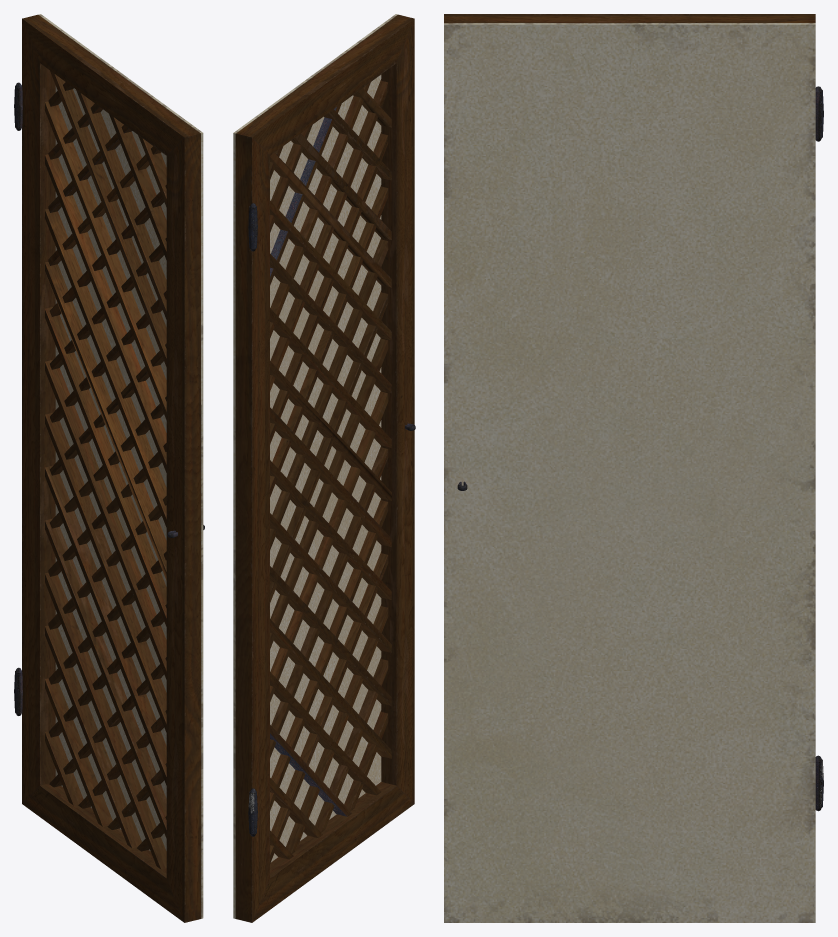
File: SM_Door01f_01.fbx
3 renders of one model, left to right at view 1: azimuth 30°, elevation 25°; view 2: azimuth 150°, elevation 25°; view 3: azimuth 270°, elevation 25°, orthographic. The views are drawn at different scales.
Visible parts, largest first — view 1: SM_Door01f_01; view 2: SM_Door01f_01; view 3: SM_Door01f_01.
Part boxes in pixels (<box>): SM_Door01f_01: <box>14,14,204,922</box>; SM_Door01f_01: <box>233,14,415,922</box>; SM_Door01f_01: <box>444,14,823,922</box>.
Size of the model in its own units: 7.77 by 160 by 61.32.
Materials: 1 (1 with a texture image).
